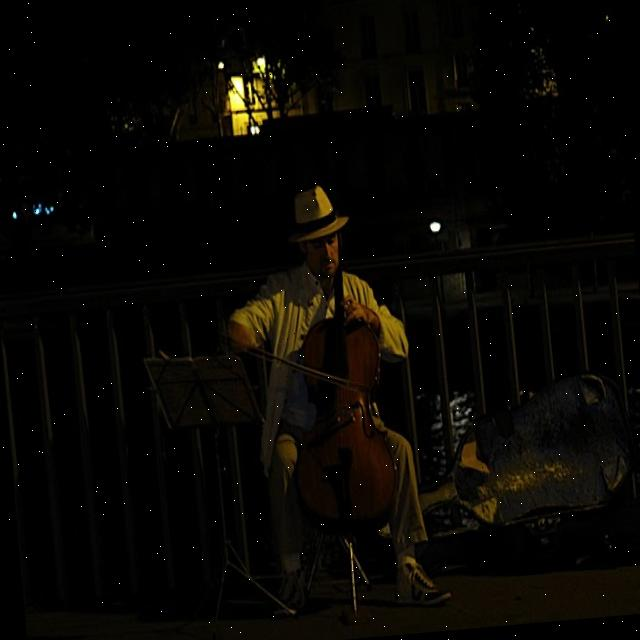cello: (271, 207, 405, 546)
